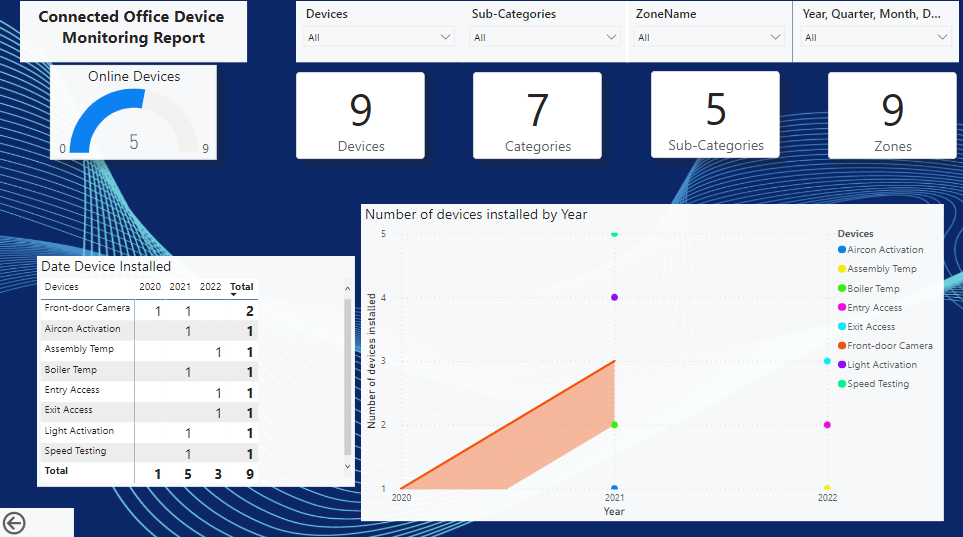

What the dashboard file says about the page in this screenshot:
{"tool":"powerbi","page":{"name":"Device  Registration","canvas":[1280,720],"ordinal":2},"visuals":[{"type":"card","fields":{"Values":["CountNonNull(devices.Devices)"]},"box":[403.2,103.5,169.9,115.2],"z":0,"group":"g1"},{"type":"stackedAreaChart","title":"Number of devices installed by Year","fields":{"Category":["devices.Date Installed.Variation.Date Hierarchy.Year"],"Series":["devices.Devices"],"Y":["CountNonNull(devices.ID)"]},"box":[488.2,277.9,770.4,419],"z":0},{"type":"card","fields":{"Values":["Count(categories.CategoryName)"]},"box":[636.5,103.5,169.9,115.2],"z":1000,"group":"g1"},{"type":"pivotTable","title":"Date Device Installed","fields":{"Rows":["devices.Devices"],"Values":["CountNonNull(devices.ID)"],"Columns":["devices.Date Installed.Variation.Date Hierarchy.Year","devices.Date Installed.Variation.Date Hierarchy.Month"]},"box":[60.5,345.6,420.5,305.3],"z":1000},{"type":"card","fields":{"Values":["Count(subCategories.ID)"]},"box":[872.6,102.2,169.9,115.2],"z":2000,"group":"g1"},{"type":"textbox","box":[38.9,8.6,299.5,80.6],"z":2000},{"type":"card","fields":{"Values":["Count(zones.ID)"]},"box":[1105.6,103.5,169.9,115.2],"z":3000,"group":"g1"},{"type":"gauge","title":"Online Devices","fields":{"Y":["Sum(devices.IconIsActive)"]},"box":[77.8,93.6,220.3,125.3],"z":3000},{"type":"slicer","fields":{"Values":["devices.Devices"]},"box":[403.2,8.6,220.3,80.6],"z":4000},{"type":"slicer","fields":{"Values":["subCategories.SubCategoryName"]},"box":[622.1,8.6,220.3,80.6],"z":5000},{"type":"slicer","fields":{"Values":["zones.ZoneName"]},"box":[839.5,8.6,220.3,80.6],"z":6000},{"type":"slicer","title":"Date Installed","fields":{"Values":["devices.Date Installed.Variation.Date Hierarchy.Year","devices.Date Installed.Variation.Date Hierarchy.Quarter","devices.Date Installed.Variation.Date Hierarchy.Month","devices.Date Installed.Variation.Date Hierarchy.Day"]},"box":[1059.7,8.6,220.3,80.6],"z":7000},{"type":"group","id":"g1","title":"Group 1","box":[403.2,102.2,872.6,116.6],"z":8000},{"type":"actionButton","box":[10.1,679.7,99.4,40.3],"z":9000}]}

Visuals, with their boxes in screenshot pixels (x1, y1, x2, y2):
card - CountNonNull(devices.Devices): x1=292, y1=69, x2=422, y2=157
"Number of devices installed by Year" stackedAreaChart: x1=357, y1=202, x2=944, y2=521
card - Count(categories.CategoryName): x1=470, y1=69, x2=600, y2=157
"Date Device Installed" pivotTable: x1=31, y1=253, x2=352, y2=486
card - Count(subCategories.ID): x1=650, y1=68, x2=779, y2=156
textbox: x1=15, y1=0, x2=243, y2=58
card - Count(zones.ID): x1=828, y1=69, x2=957, y2=157
"Online Devices" gauge: x1=44, y1=61, x2=212, y2=157
slicer - devices.Devices: x1=292, y1=0, x2=460, y2=58
slicer - subCategories.SubCategoryName: x1=459, y1=0, x2=627, y2=58
slicer - zones.ZoneName: x1=625, y1=0, x2=793, y2=58
"Date Installed" slicer: x1=793, y1=0, x2=960, y2=58
"Group 1" group: x1=292, y1=68, x2=957, y2=157
actionButton: x1=0, y1=508, x2=68, y2=536
